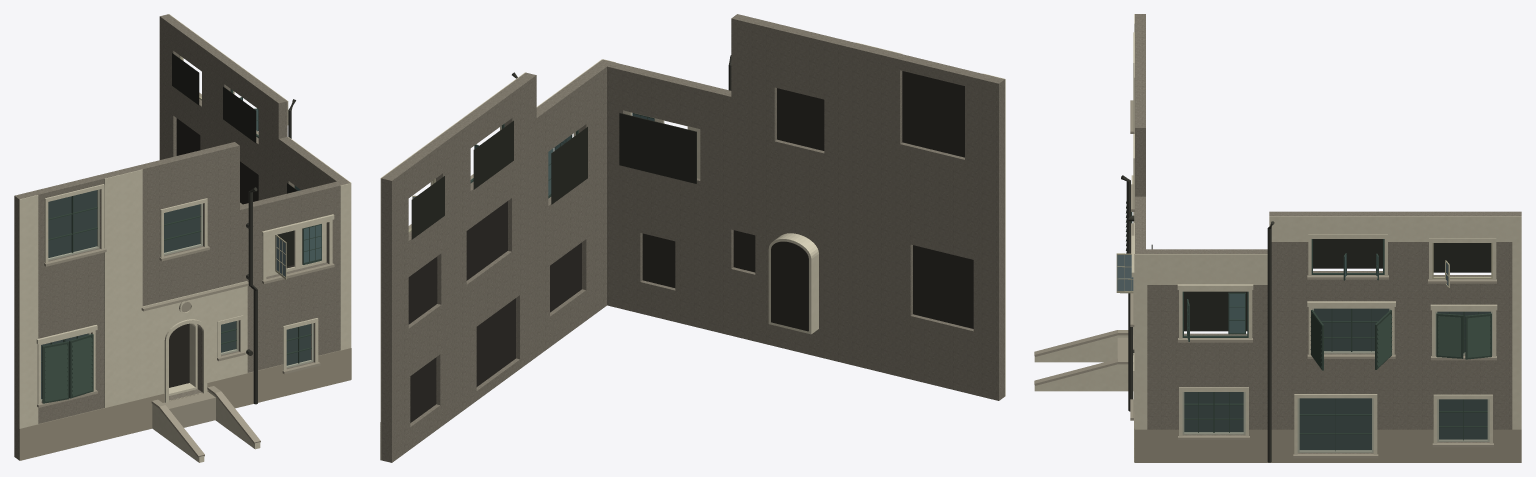
The model's file is lod-source.glb.
3 views of the same model, side by side, from view 1: azimuth 30°, elevation 25°; view 2: azimuth 150°, elevation 25°; view 3: azimuth 270°, elevation 25° (orthographic). The views are drawn at different scales.
Visible parts, largest first — view 1: 延庆路159号住宅庭院拱门与临街转角; view 2: 延庆路159号住宅庭院拱门与临街转角; view 3: 延庆路159号住宅庭院拱门与临街转角.
Part boxes in pixels (x1,y1,x2,y2): 延庆路159号住宅庭院拱门与临街转角: (14,14,351,462); 延庆路159号住宅庭院拱门与临街转角: (380,14,1005,462); 延庆路159号住宅庭院拱门与临街转角: (1034,14,1521,462).
Size of the model in its own units: 11.8 by 8.1 by 12.91.
14 materials, 2 textured.
